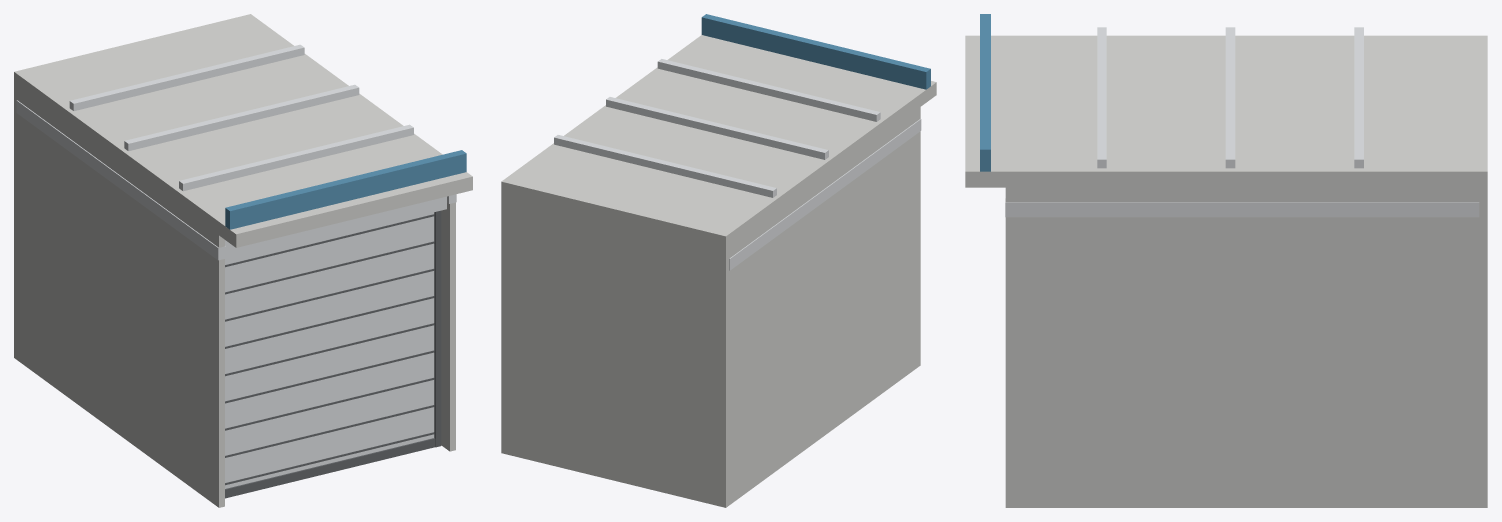
File: fish-market-and-trawler-quay-fish-market-and-trawler-q-92a62e78__37280.glb
3 renders of one model, left to right at view 1: azimuth 30°, elevation 25°; view 2: azimuth 150°, elevation 25°; view 3: azimuth 270°, elevation 25°, orthographic. The views are drawn at different scales.
Parts seen in each view (by area): view 1: fish-market-and-trawler-quay-market-hall-bay, shutter/steel, shutter/charcoal (×10); view 2: fish-market-and-trawler-quay-market-hall-bay; view 3: fish-market-and-trawler-quay-market-hall-bay.
Boxes of the visible parts, <box> form: fish-market-and-trawler-quay-market-hall-bay: <box>14,14,472,507</box>; shutter/steel: <box>225,212,434,488</box>; shutter/charcoal (×10): <box>225,214,435,498</box>; fish-market-and-trawler-quay-market-hall-bay: <box>501,14,936,507</box>; fish-market-and-trawler-quay-market-hall-bay: <box>965,14,1487,507</box>.
Size of the model in its own units: 4.03 by 4.92 by 6.5.
